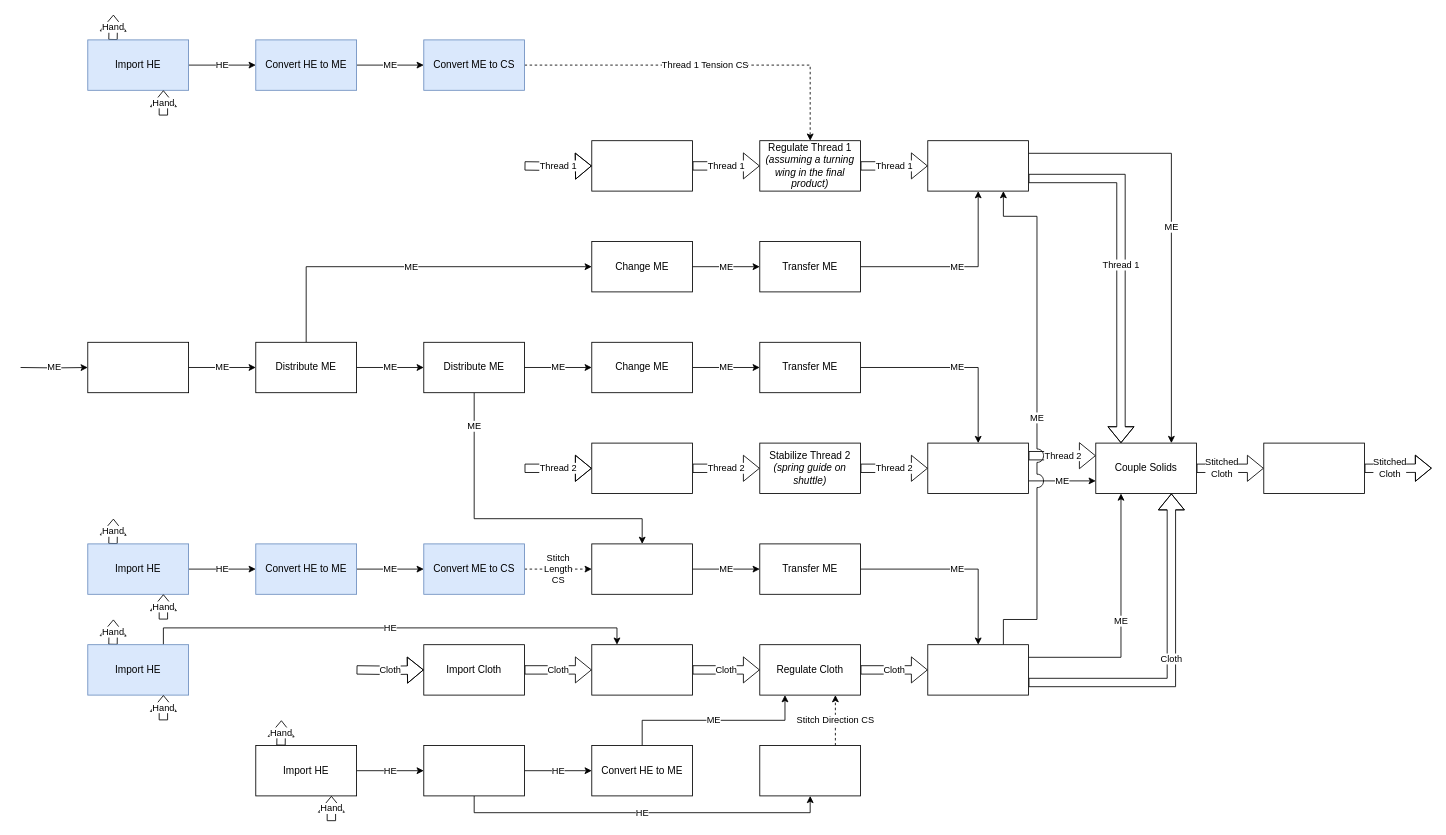
Image size: 1446x835. Some labels were removed from this diagram. The box of each missing label's shape, as (x1, y1, x2, y2) in pixels:
Convert HE to CS: (759, 745, 861, 796)
Distribute HE: (423, 745, 525, 796)
Export Solid: (1263, 442, 1365, 494)
Guide Cloth: (927, 644, 1029, 695)
Guide Thread 1 (some ME comes from the cloth due to vibratory needle): (927, 140, 1029, 191)
Guide Thread 2: (927, 442, 1029, 494)
Import ME: (87, 341, 189, 393)
Import Thread 1: (591, 140, 693, 191)
Import Thread 2: (591, 442, 693, 494)
Regulate ME: (591, 543, 693, 594)
Secure Cloth: (591, 644, 693, 695)
